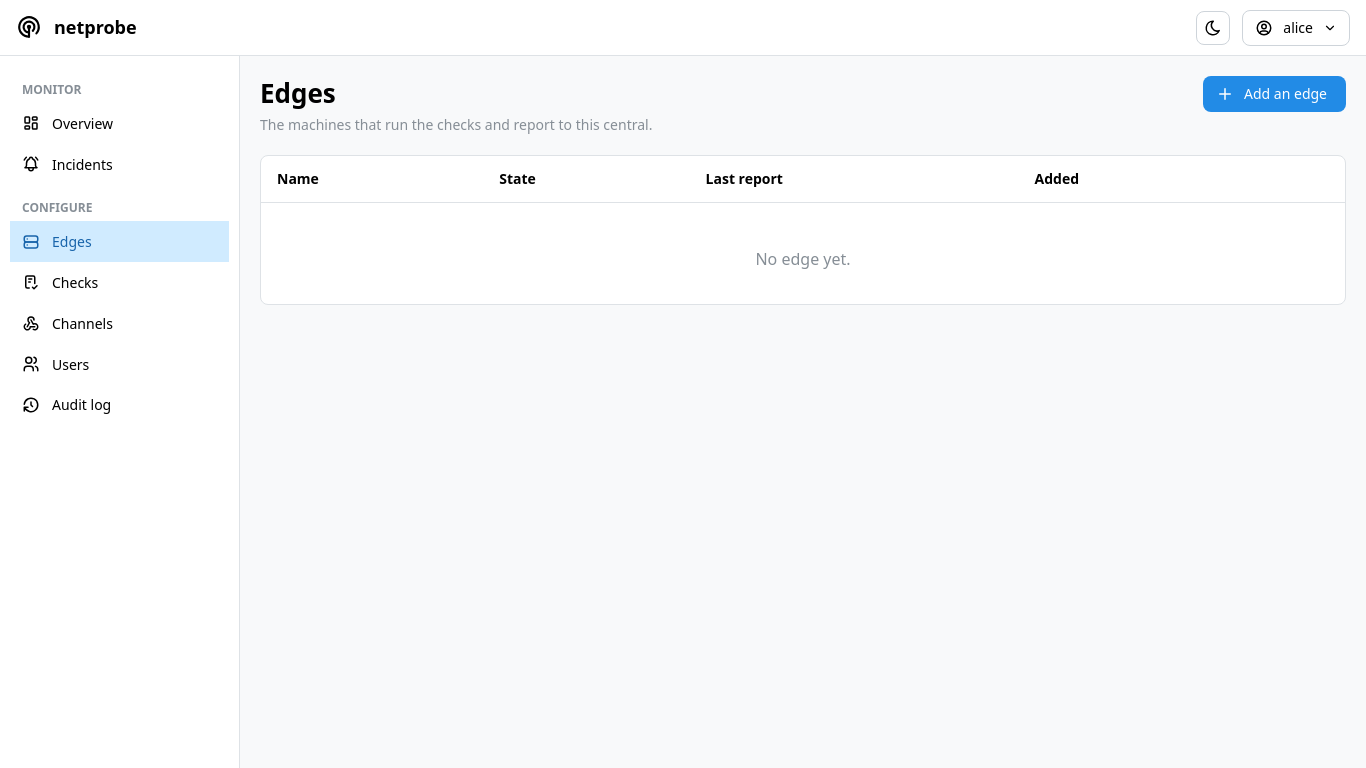
Scenario: edges › registers an edge and shows its token once
Click the button "Add an edge" at {"x": 1274, "y": 94}, box [1203,76,1346,112]
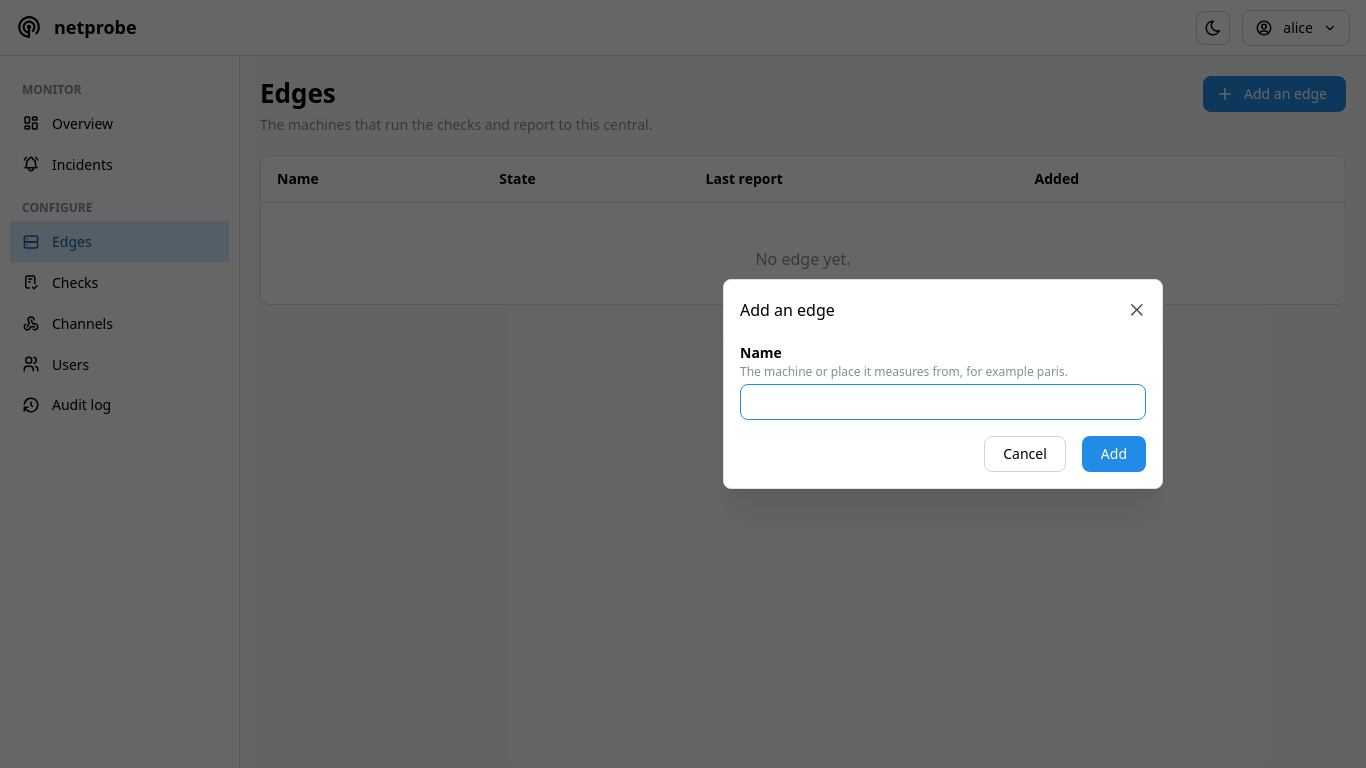
Type "paris" into the field labelled "Name" at {"x": 943, "y": 402}, box [740,384,1146,420]
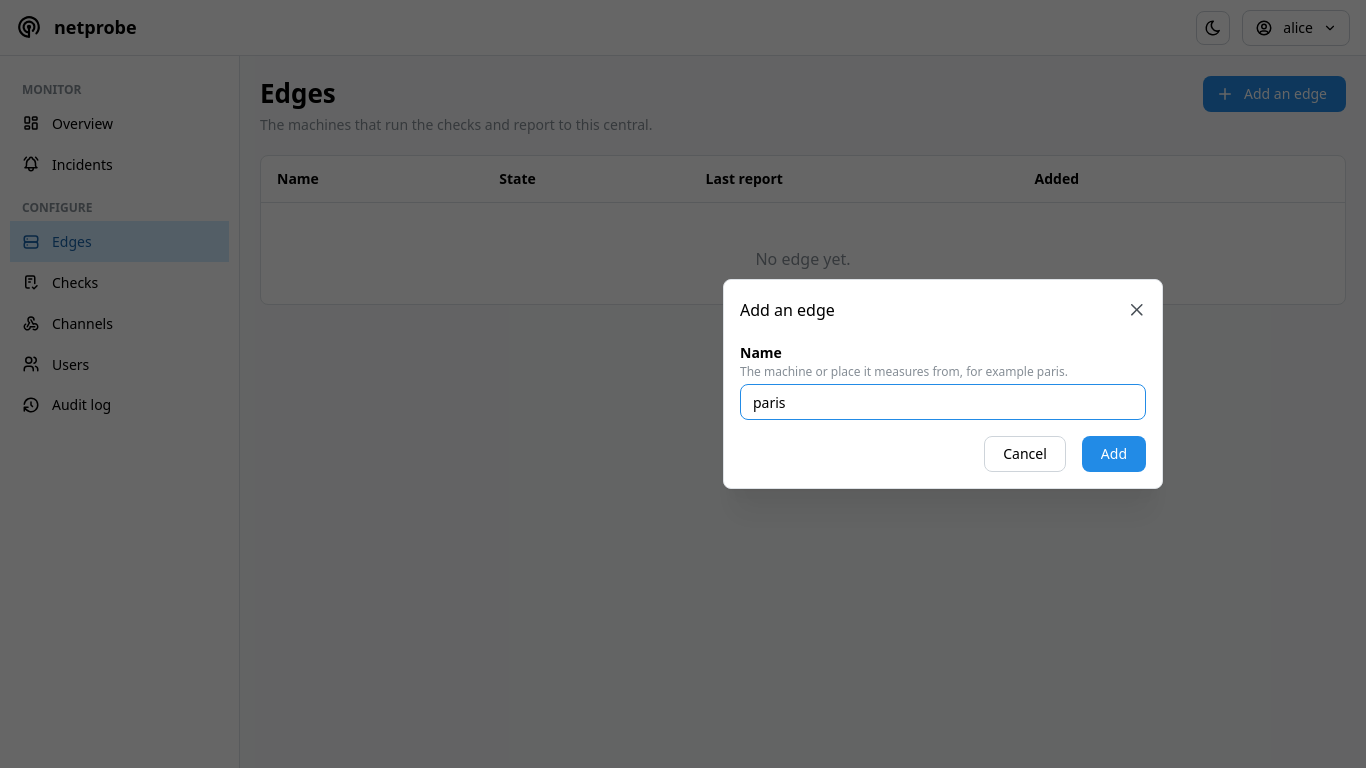
Click the button "Add" at {"x": 1114, "y": 454}, box [1082,436,1146,472]
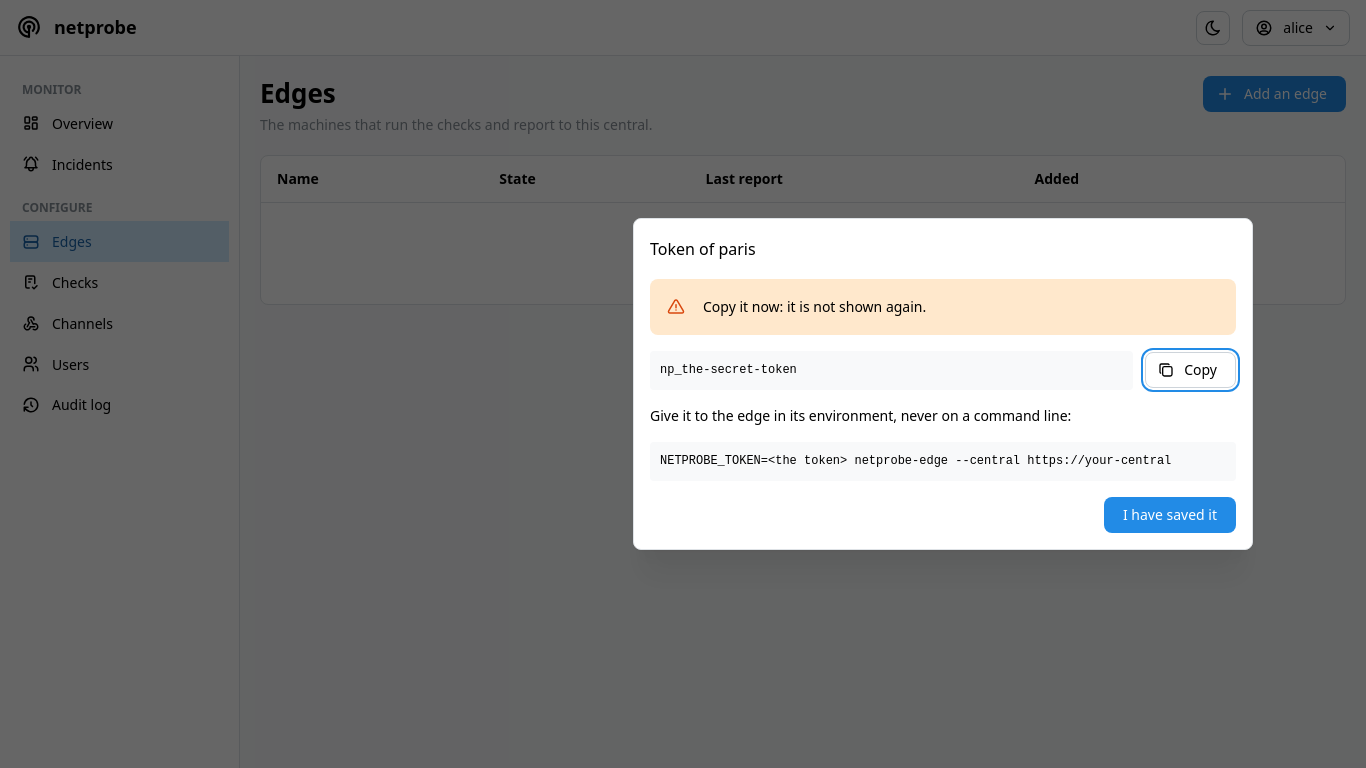
Now the text "np_the-secret-token" is shown, box [650,351,1133,390]
Now the text "Copy it now: it is not shown again." is shown, box [703,297,926,316]
Click the button "I have saved it" at {"x": 1170, "y": 515}, box [1104,497,1236,533]
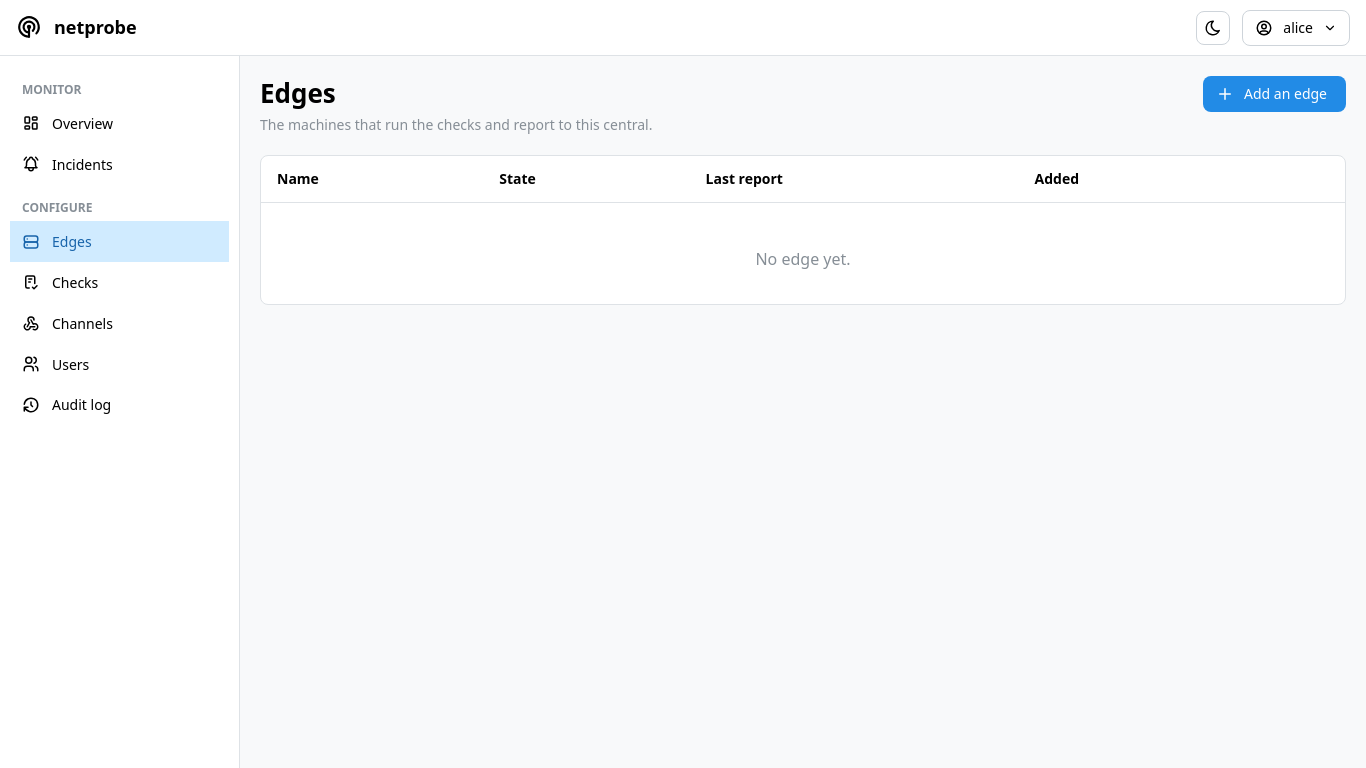
Now the text "np_the-secret-token" is gone
